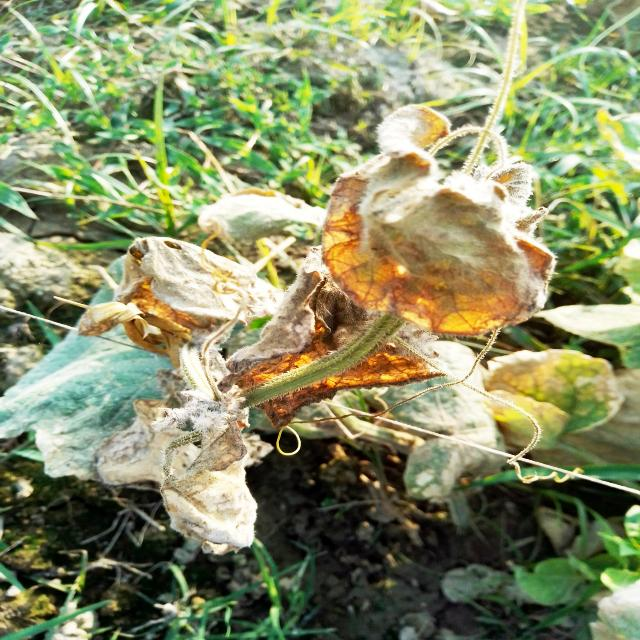Bacterial-Wilt: (318, 97, 559, 339), (212, 239, 458, 431), (113, 235, 283, 330), (158, 410, 257, 560)
